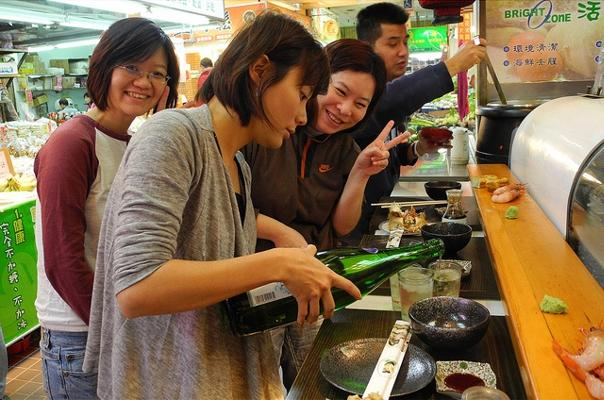person: (89, 14, 364, 400)
